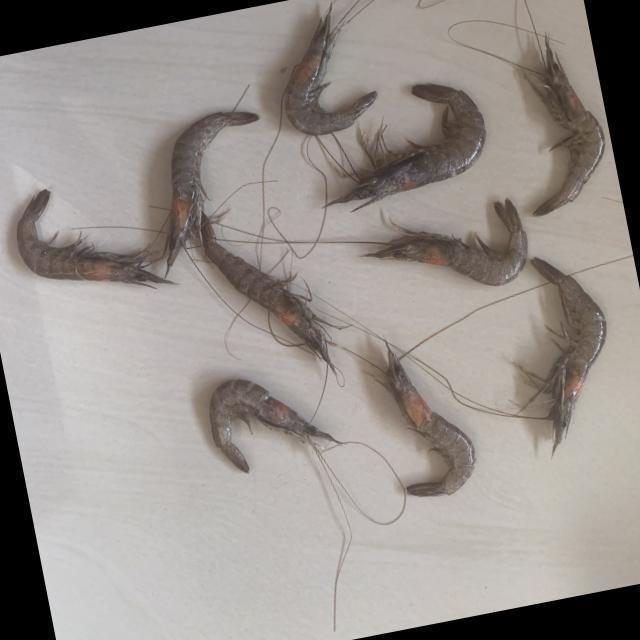shrimp: (200, 212, 335, 374), (327, 83, 486, 210), (163, 111, 259, 271), (16, 190, 175, 286), (530, 258, 607, 456), (365, 199, 528, 286), (529, 37, 606, 216), (387, 344, 476, 497), (209, 380, 343, 473), (285, 2, 377, 134)
